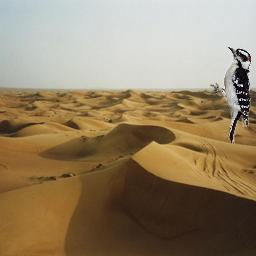Woodpecker: (206, 45, 252, 144)
